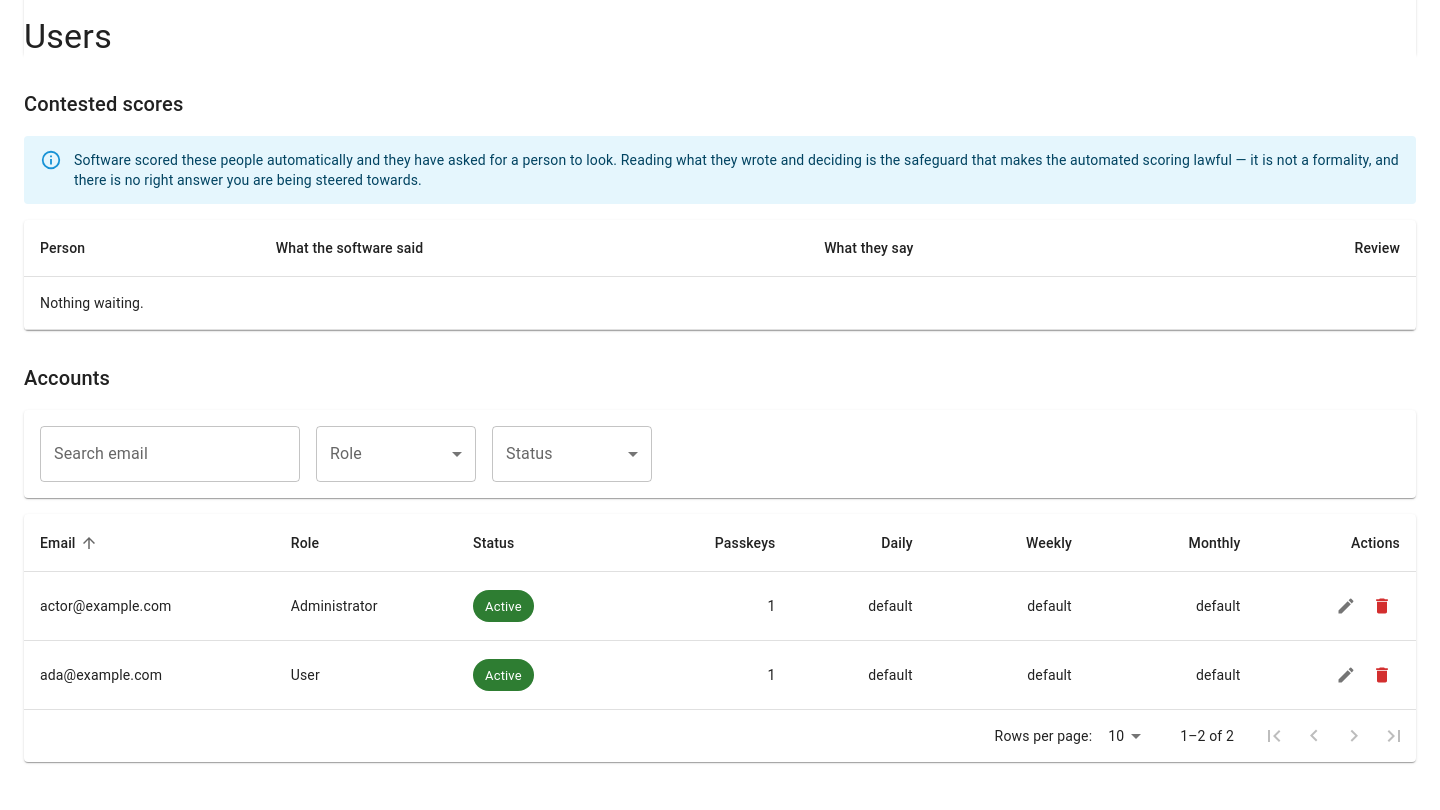
Test: the role column › shows each account's current role, in the column and in its popup
(page scrolled)
Check: the text "User" is shown, box [275,641,457,710]
Check: the text "Administrator" is shown, box [275,572,457,641]
Click the button named "Edit" in the row of "ada@example.com": (1346, 675) [1328,657,1364,693]
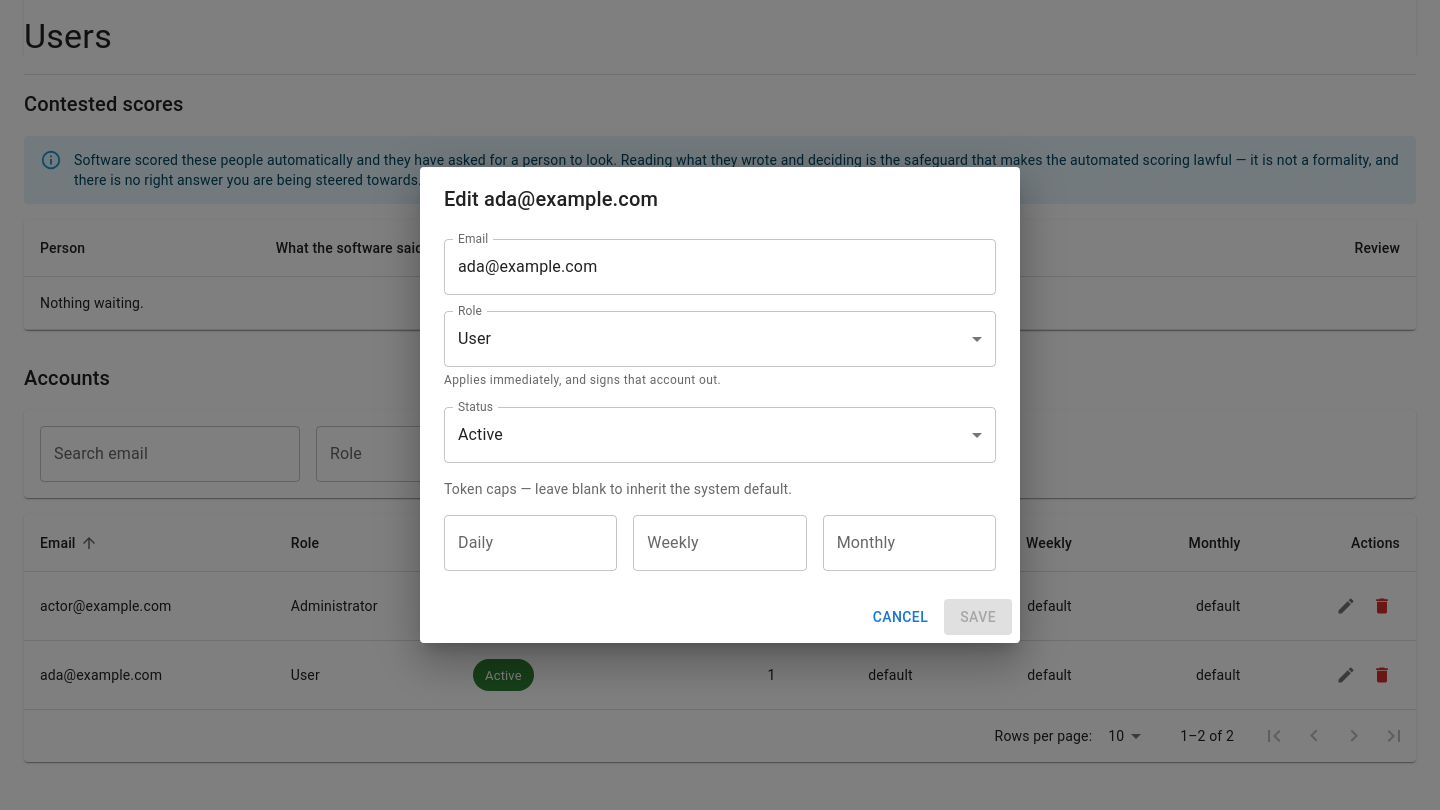
Check: the dropdown labelled "User" is shown, box [458,329,491,348]
